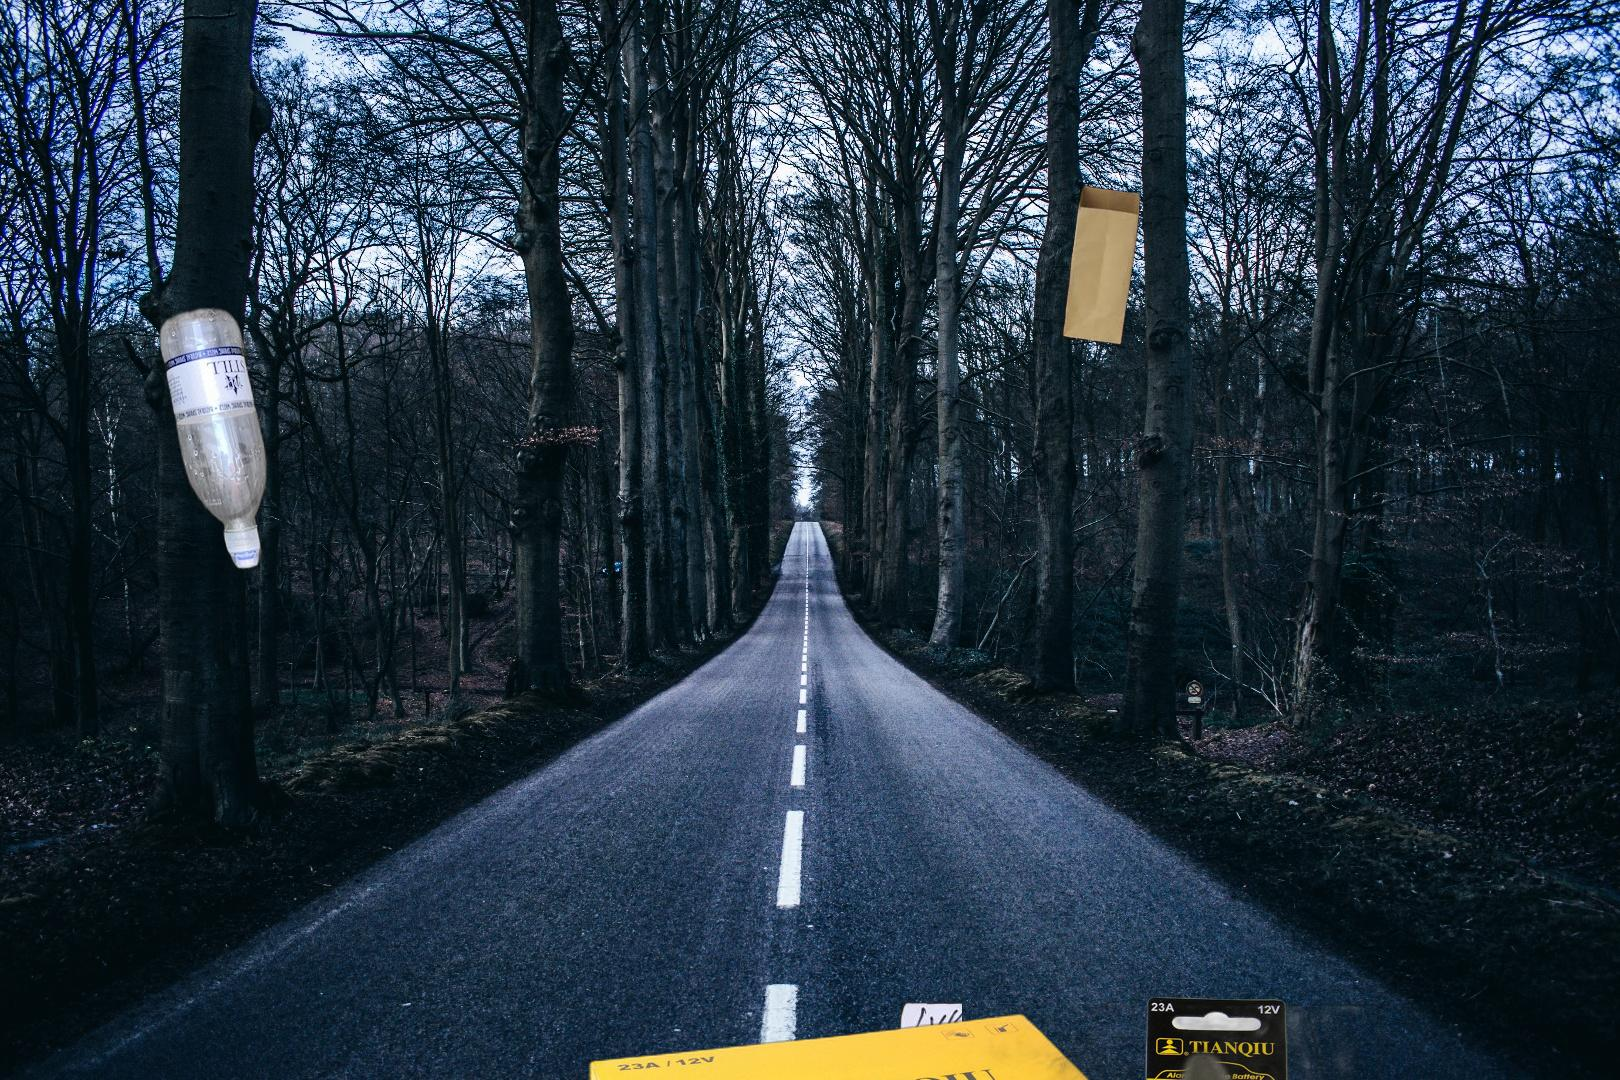battery: (582, 992, 1304, 1080)
paper: (874, 1004, 1386, 1080)
paper-bag: (1060, 182, 1143, 348)
penholder: (1022, 1012, 1620, 1080)
plastic-bottles: (155, 301, 271, 575)
trashbox-cardboard: (450, 844, 962, 1080)
